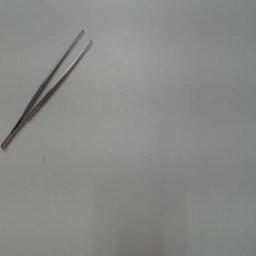Gillies Toothed Dissector: (0, 26, 96, 154)
